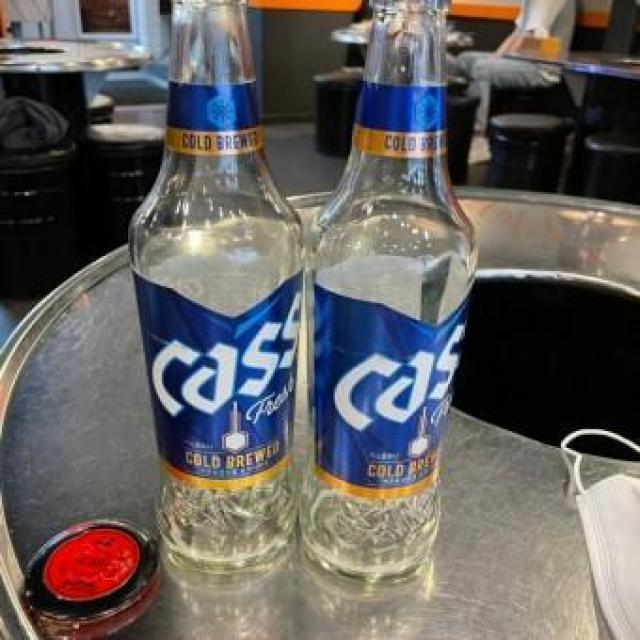beer-bottle: (305, 0, 484, 610), (128, 0, 303, 587)
